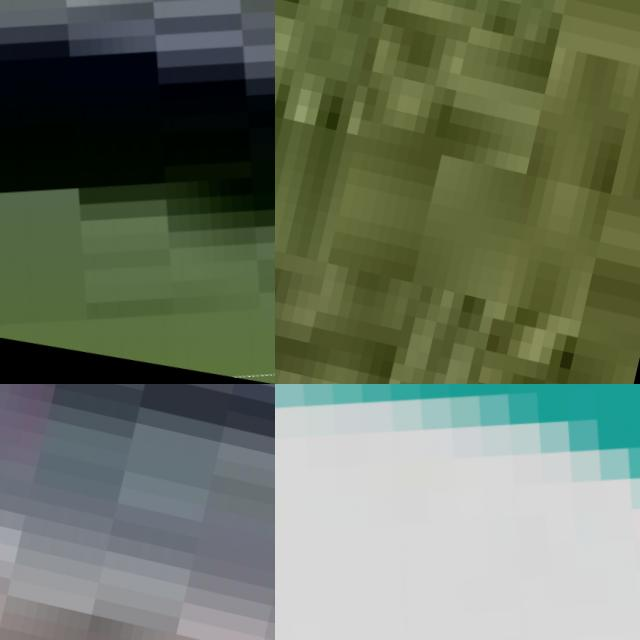drone: (0, 0, 275, 384), (275, 384, 640, 640)
